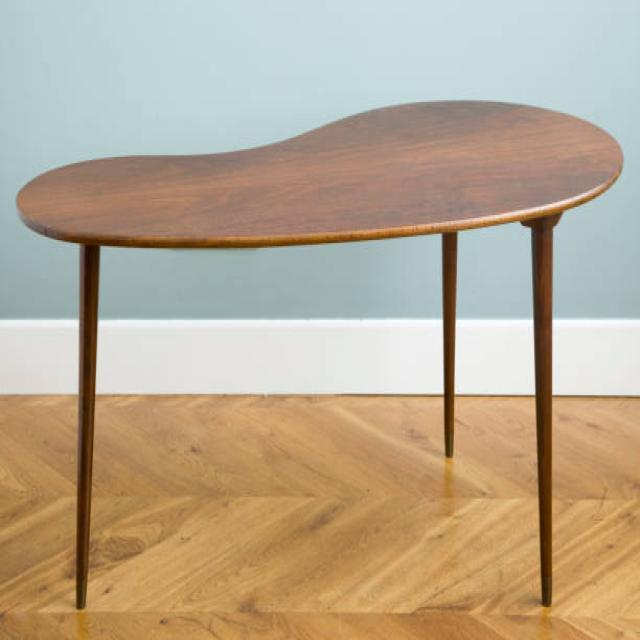table: (14, 97, 624, 612)
